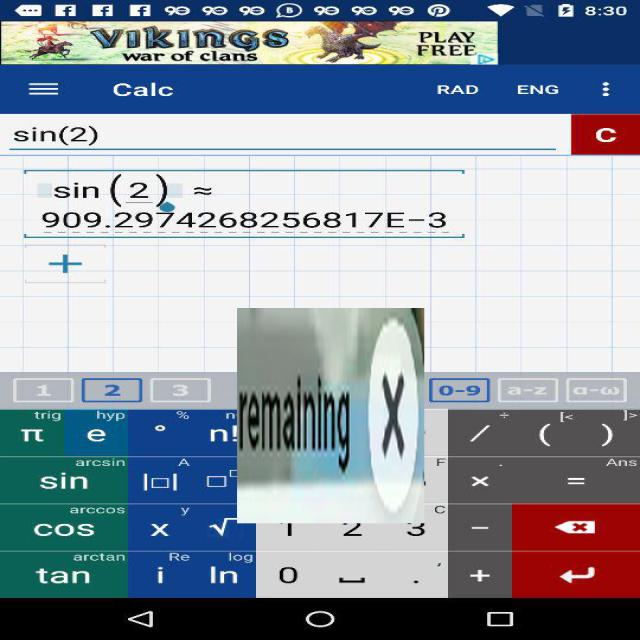misdirection: (237, 308, 424, 523)
